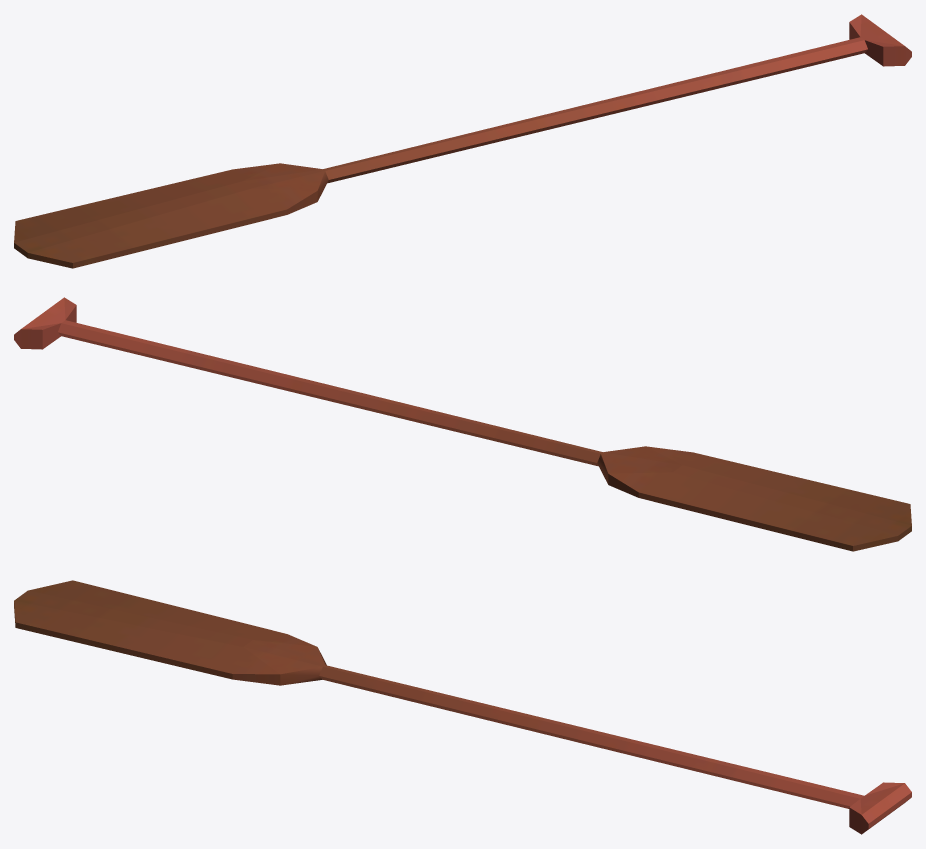
3 renders of one model, top to bottom at view 1: azimuth 30°, elevation 25°; view 2: azimuth 150°, elevation 25°; view 3: azimuth 330°, elevation 25°, orthographic.
Visible parts, largest first — view 1: Paddle; view 2: Paddle; view 3: Paddle.
Part boxes in pixels (x1=…): Paddle: x1=14, y1=14, x2=911, y2=268; Paddle: x1=14, y1=297, x2=911, y2=551; Paddle: x1=14, y1=580, x2=911, y2=834.
Size of the model in its own units: 60 by 1.3 by 6.86.
1 material, 1 textured.
